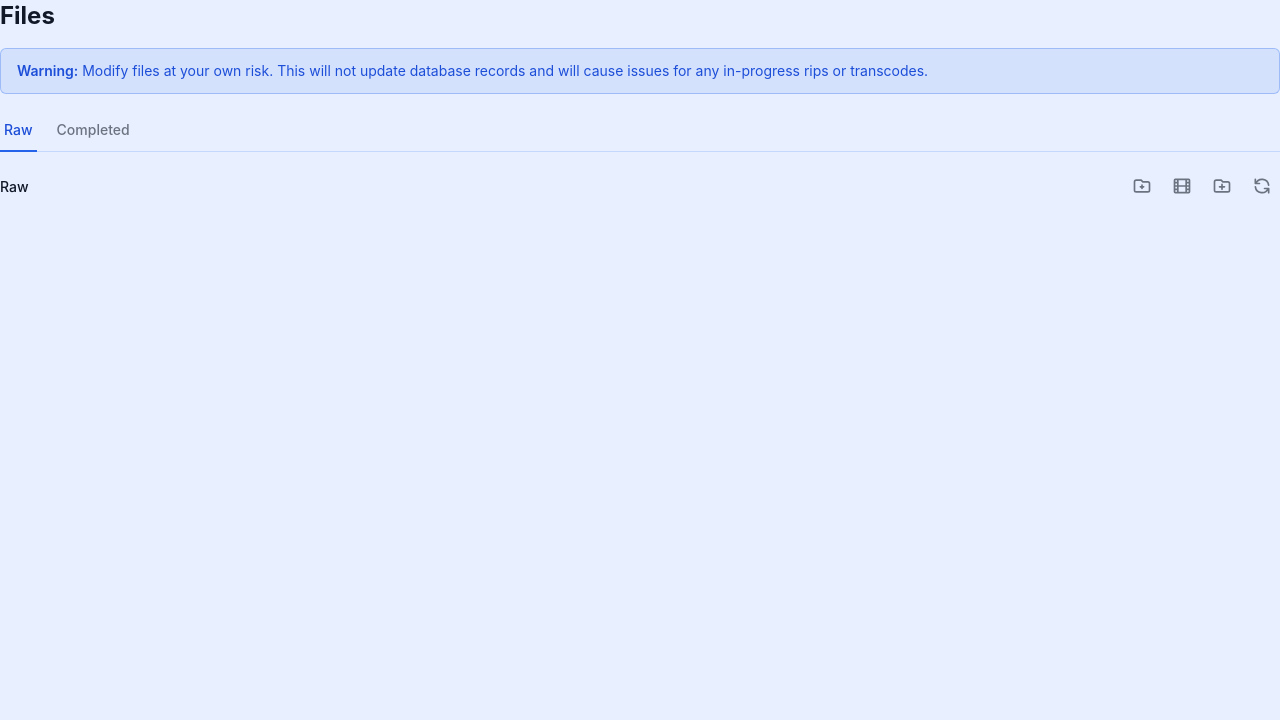
Test: Files Page › orphan folders › displays folder list in modal
Click the button titled "Orphan folders": point(1142, 186) x1=1124 y1=168 x2=1160 y2=204
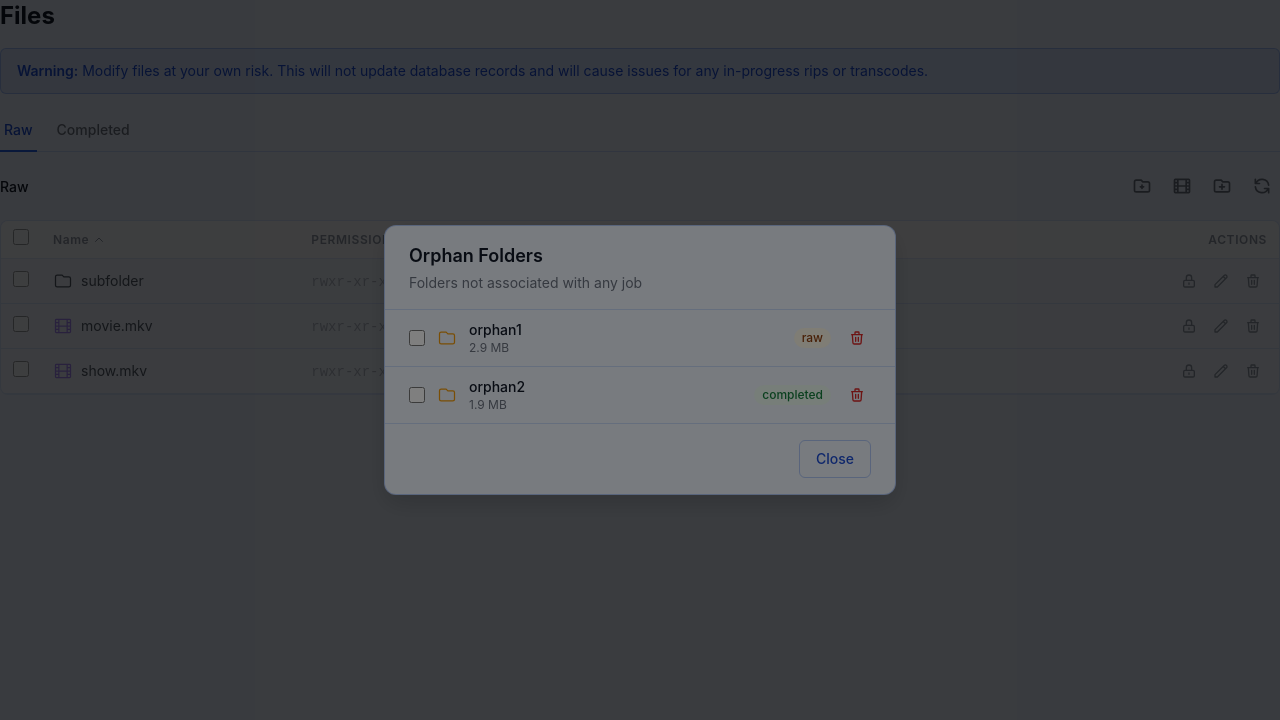
Expected: the text "orphan1" is shown, x1=469 y1=321 x2=522 y2=338
Expected: the text "orphan2" is shown, x1=469 y1=378 x2=525 y2=395
